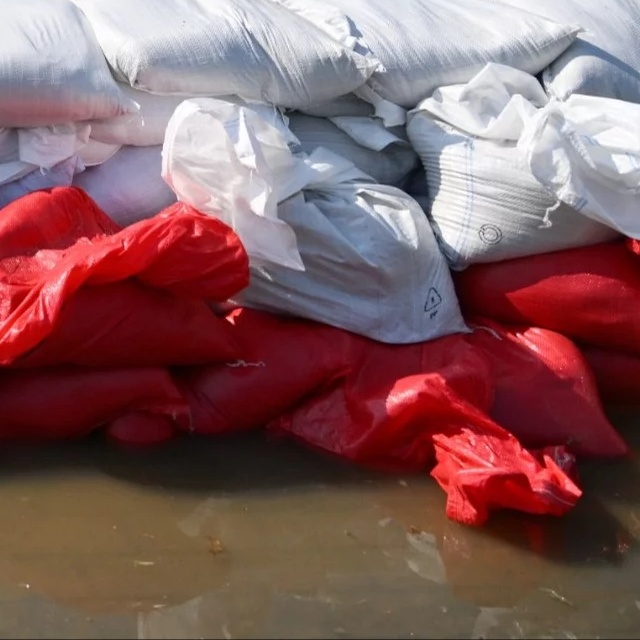sandbag: (162, 100, 466, 344), (271, 340, 583, 526), (407, 64, 640, 269), (0, 189, 249, 370), (281, 0, 579, 108), (75, 0, 370, 109), (183, 311, 366, 433), (471, 321, 628, 457), (456, 243, 640, 354), (0, 0, 137, 128), (509, 0, 640, 102), (75, 148, 175, 225)
